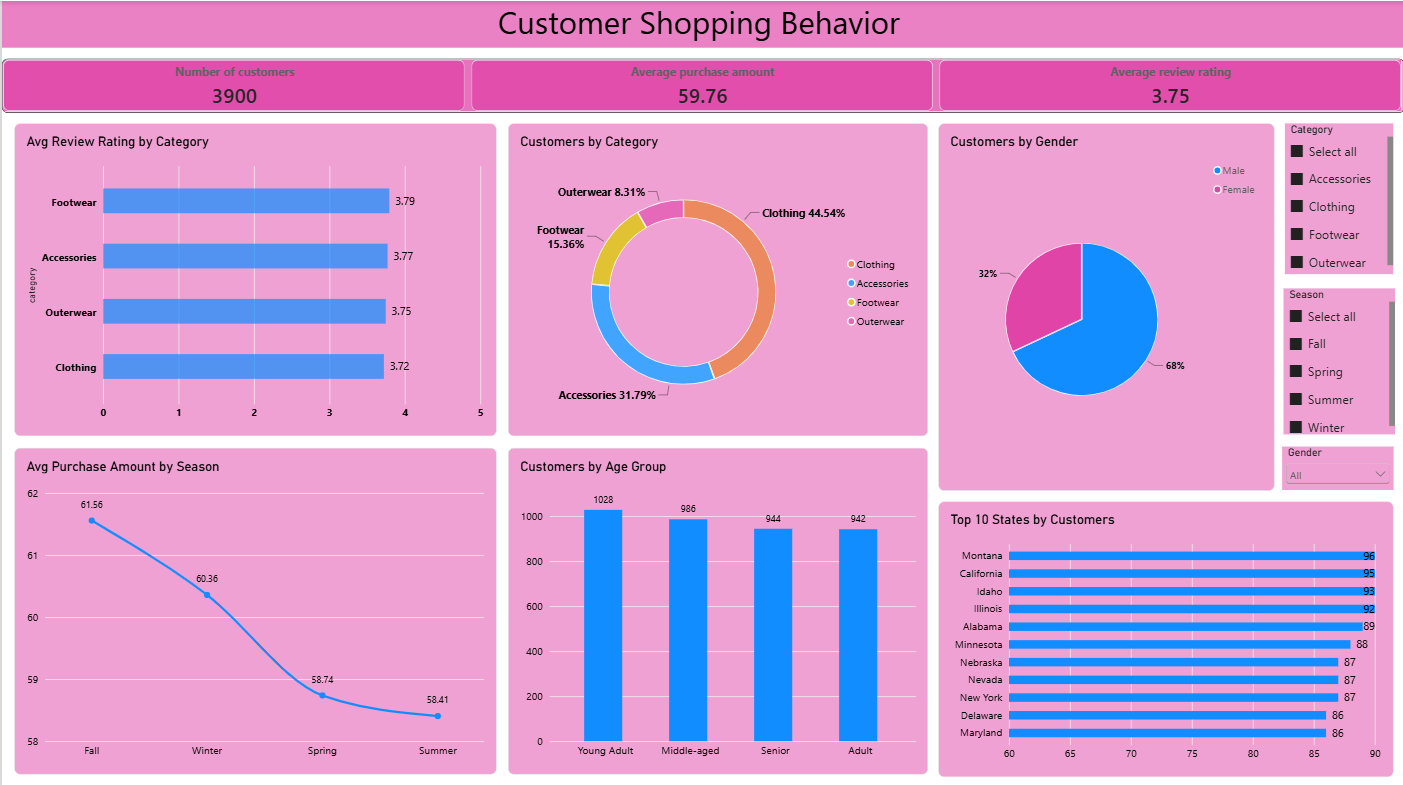

The dashboard page shown, as its layout file describes it:
{"tool":"powerbi","page":{"name":"Page 1","canvas":[1920,1080],"ordinal":0},"visuals":[{"type":"slicer","fields":{"Values":["customer_behaviour customer_data.category"]},"box":[1757.6,167.1,148.5,206.3],"z":0},{"type":"slicer","fields":{"Values":["customer_behaviour customer_data.season"]},"box":[1755.5,394,152.7,200.1],"z":1000},{"type":"slicer","fields":{"Values":["customer_behaviour customer_data.gender"]},"box":[1753.5,610.6,152.7,59.8],"z":2000},{"type":"donutChart","title":"Customers by Category","fields":{"Category":["customer_behaviour customer_data.category"],"Y":["Divide(customer_behaviour customer_data.number of customers, ScopedEval(customer_behaviour customer_data.number of custo"]},"box":[693.5,167.7,575.5,428.5],"z":4000},{"type":"clusteredColumnChart","title":"Customers by Age Group","fields":{"Category":["customer_behaviour customer_data.age_group"],"Y":["customer_behaviour customer_data.number of customers"]},"box":[693.5,612.8,575.5,447.2],"z":5000},{"type":"lineChart","title":"Avg Purchase Amount by Season","fields":{"Category":["customer_behaviour customer_data.season"],"Y":["customer_behaviour customer_data.avg purchase amount"]},"box":[16.6,612.8,660.4,447.2],"z":6000},{"type":"clusteredBarChart","title":"Avg Review Rating by Category","fields":{"Category":["customer_behaviour customer_data.category"],"Y":["customer_behaviour customer_data.average review rating"]},"box":[16.6,167.7,660.4,428.5],"z":7000},{"type":"pieChart","title":"Customers by Gender","fields":{"Category":["customer_behaviour customer_data.gender"],"Y":["customer_behaviour customer_data.number of customers"]},"box":[1283.1,167.1,460,503.4],"z":7001},{"type":"clusteredBarChart","title":"Top 10 States by Customers","fields":{"Category":["customer_behaviour customer_data.location"],"Y":["customer_behaviour customer_data.number of customers"]},"box":[1283.1,684.9,623,377.5],"z":7002},{"type":"textbox","box":[52,838,196,184],"z":7003},{"type":"textbox","box":[0,0,1920.6,64],"z":7004},{"type":"cardVisual","fields":{"Data":["customer_behaviour customer_data.number of customers","customer_behaviour customer_data.avg purchase amount","customer_behaviour customer_data.average review rating"]},"box":[0,78.4,1920.6,74.3],"z":7005}]}

Visuals, with their boxes in screenshot pixels (x1, y1, x2, y2), scaled from the page's 1920x1080 canvas onto the 1403x785 screenshot:
slicer - customer_behaviour customer_data.category: 1284/121/1393/271
slicer - customer_behaviour customer_data.season: 1283/286/1394/432
slicer - customer_behaviour customer_data.gender: 1281/444/1393/487
"Customers by Category" donutChart: 507/122/927/433
"Customers by Age Group" clusteredColumnChart: 507/445/927/770
"Avg Purchase Amount by Season" lineChart: 12/445/495/770
"Avg Review Rating by Category" clusteredBarChart: 12/122/495/433
"Customers by Gender" pieChart: 938/121/1274/487
"Top 10 States by Customers" clusteredBarChart: 938/498/1393/772
textbox: 38/609/181/743
textbox: 0/0/1402/47
cardVisual - customer_behaviour customer_data.number of customers x customer_behaviour customer_data.avg purchase amount: 0/57/1402/111
